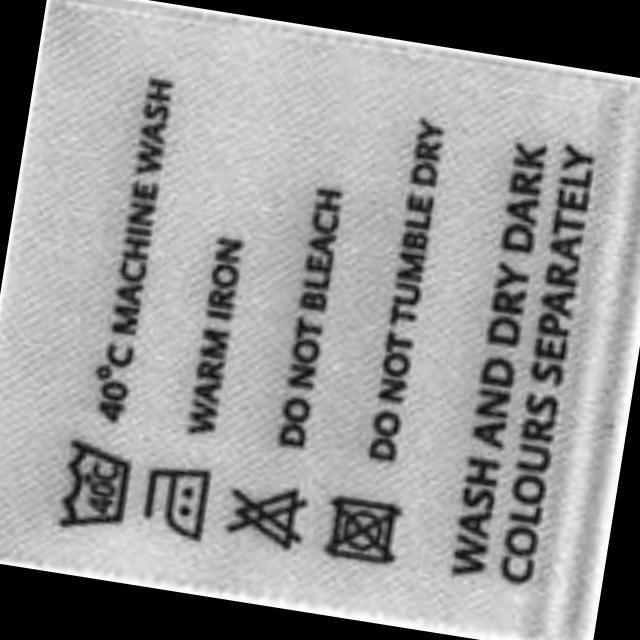40C: (49, 429, 144, 541)
DN_bleach: (222, 472, 312, 554)
DN_tumble_dry: (317, 488, 408, 570)
iron_medium: (134, 455, 218, 544)
